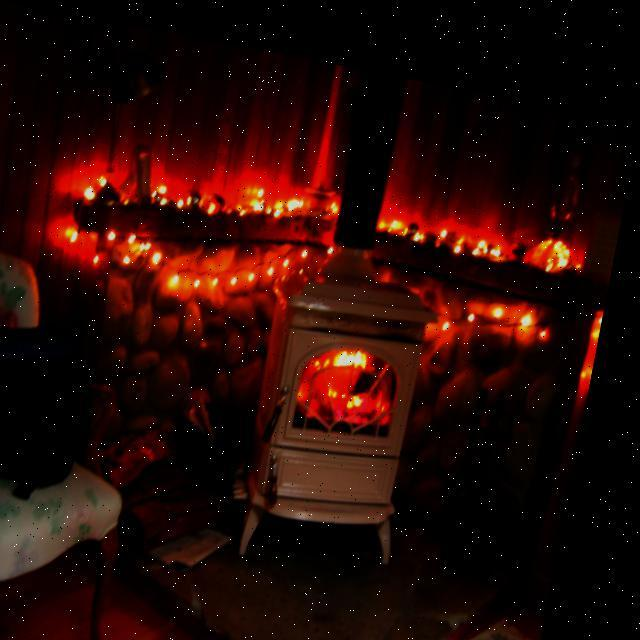Fire: (306, 322, 406, 429)
